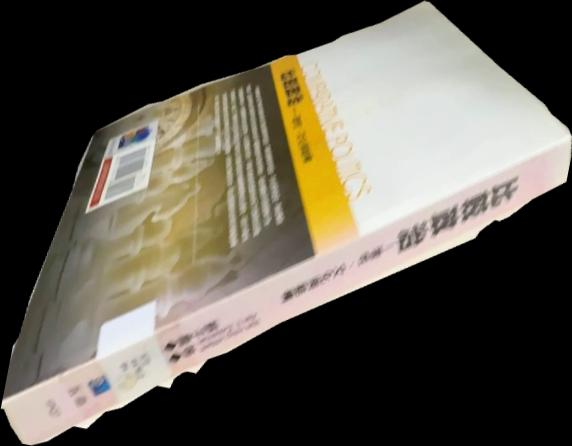flat: (1, 1, 572, 446)
